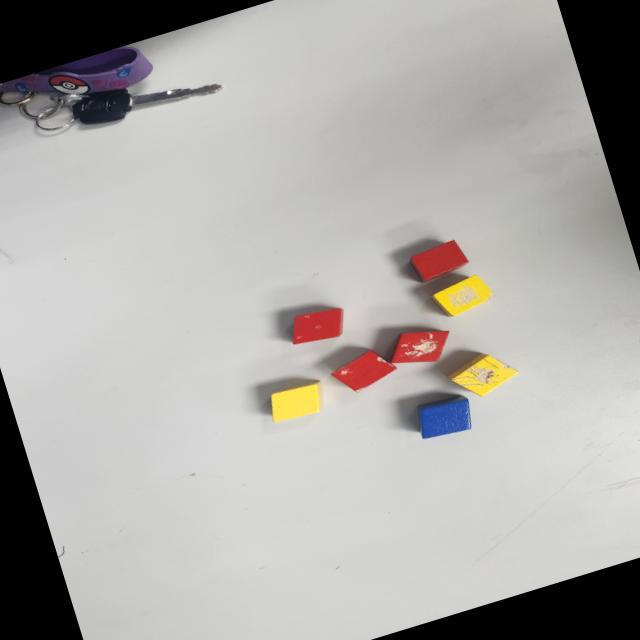blue: (412, 391, 478, 444)
broken: (444, 343, 524, 405), (382, 318, 458, 374), (327, 343, 401, 398), (428, 270, 498, 322), (284, 302, 350, 351)
red: (407, 237, 471, 284)
yellow: (265, 378, 327, 425)
